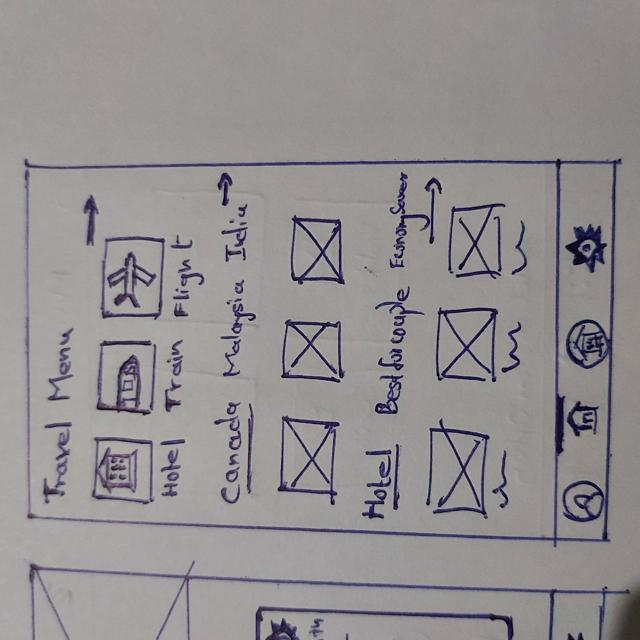BottomNavBar: (555, 158, 609, 542)
BottomNavItems: (560, 180, 610, 299), (554, 307, 610, 383), (551, 470, 609, 539), (553, 391, 608, 463)
HorizontalListView: (426, 192, 542, 536), (265, 199, 366, 526), (85, 234, 193, 517)
Icon: (565, 318, 610, 370), (96, 445, 144, 493), (111, 251, 151, 308), (566, 223, 607, 274), (563, 479, 603, 527), (114, 354, 146, 408), (570, 401, 599, 443), (425, 177, 441, 248), (82, 193, 99, 250), (213, 172, 236, 210)
Image: (279, 413, 340, 498), (435, 305, 497, 386), (432, 426, 487, 513), (278, 316, 346, 384), (286, 213, 346, 288), (447, 204, 504, 279)
Layout: (87, 436, 158, 504), (104, 239, 159, 317), (96, 339, 153, 413)
ListView: (429, 196, 539, 534), (89, 229, 193, 512), (269, 204, 357, 517)
MainLayout: (18, 154, 616, 542)
Tab: (216, 206, 258, 525), (372, 164, 406, 528)
TextView: (45, 328, 70, 503), (380, 289, 408, 415), (387, 169, 411, 273), (218, 402, 242, 503), (226, 279, 248, 380), (175, 230, 198, 319), (364, 446, 390, 523), (164, 337, 187, 415), (490, 445, 512, 519), (508, 219, 533, 278), (228, 205, 251, 264), (160, 436, 182, 496), (503, 321, 523, 380)
